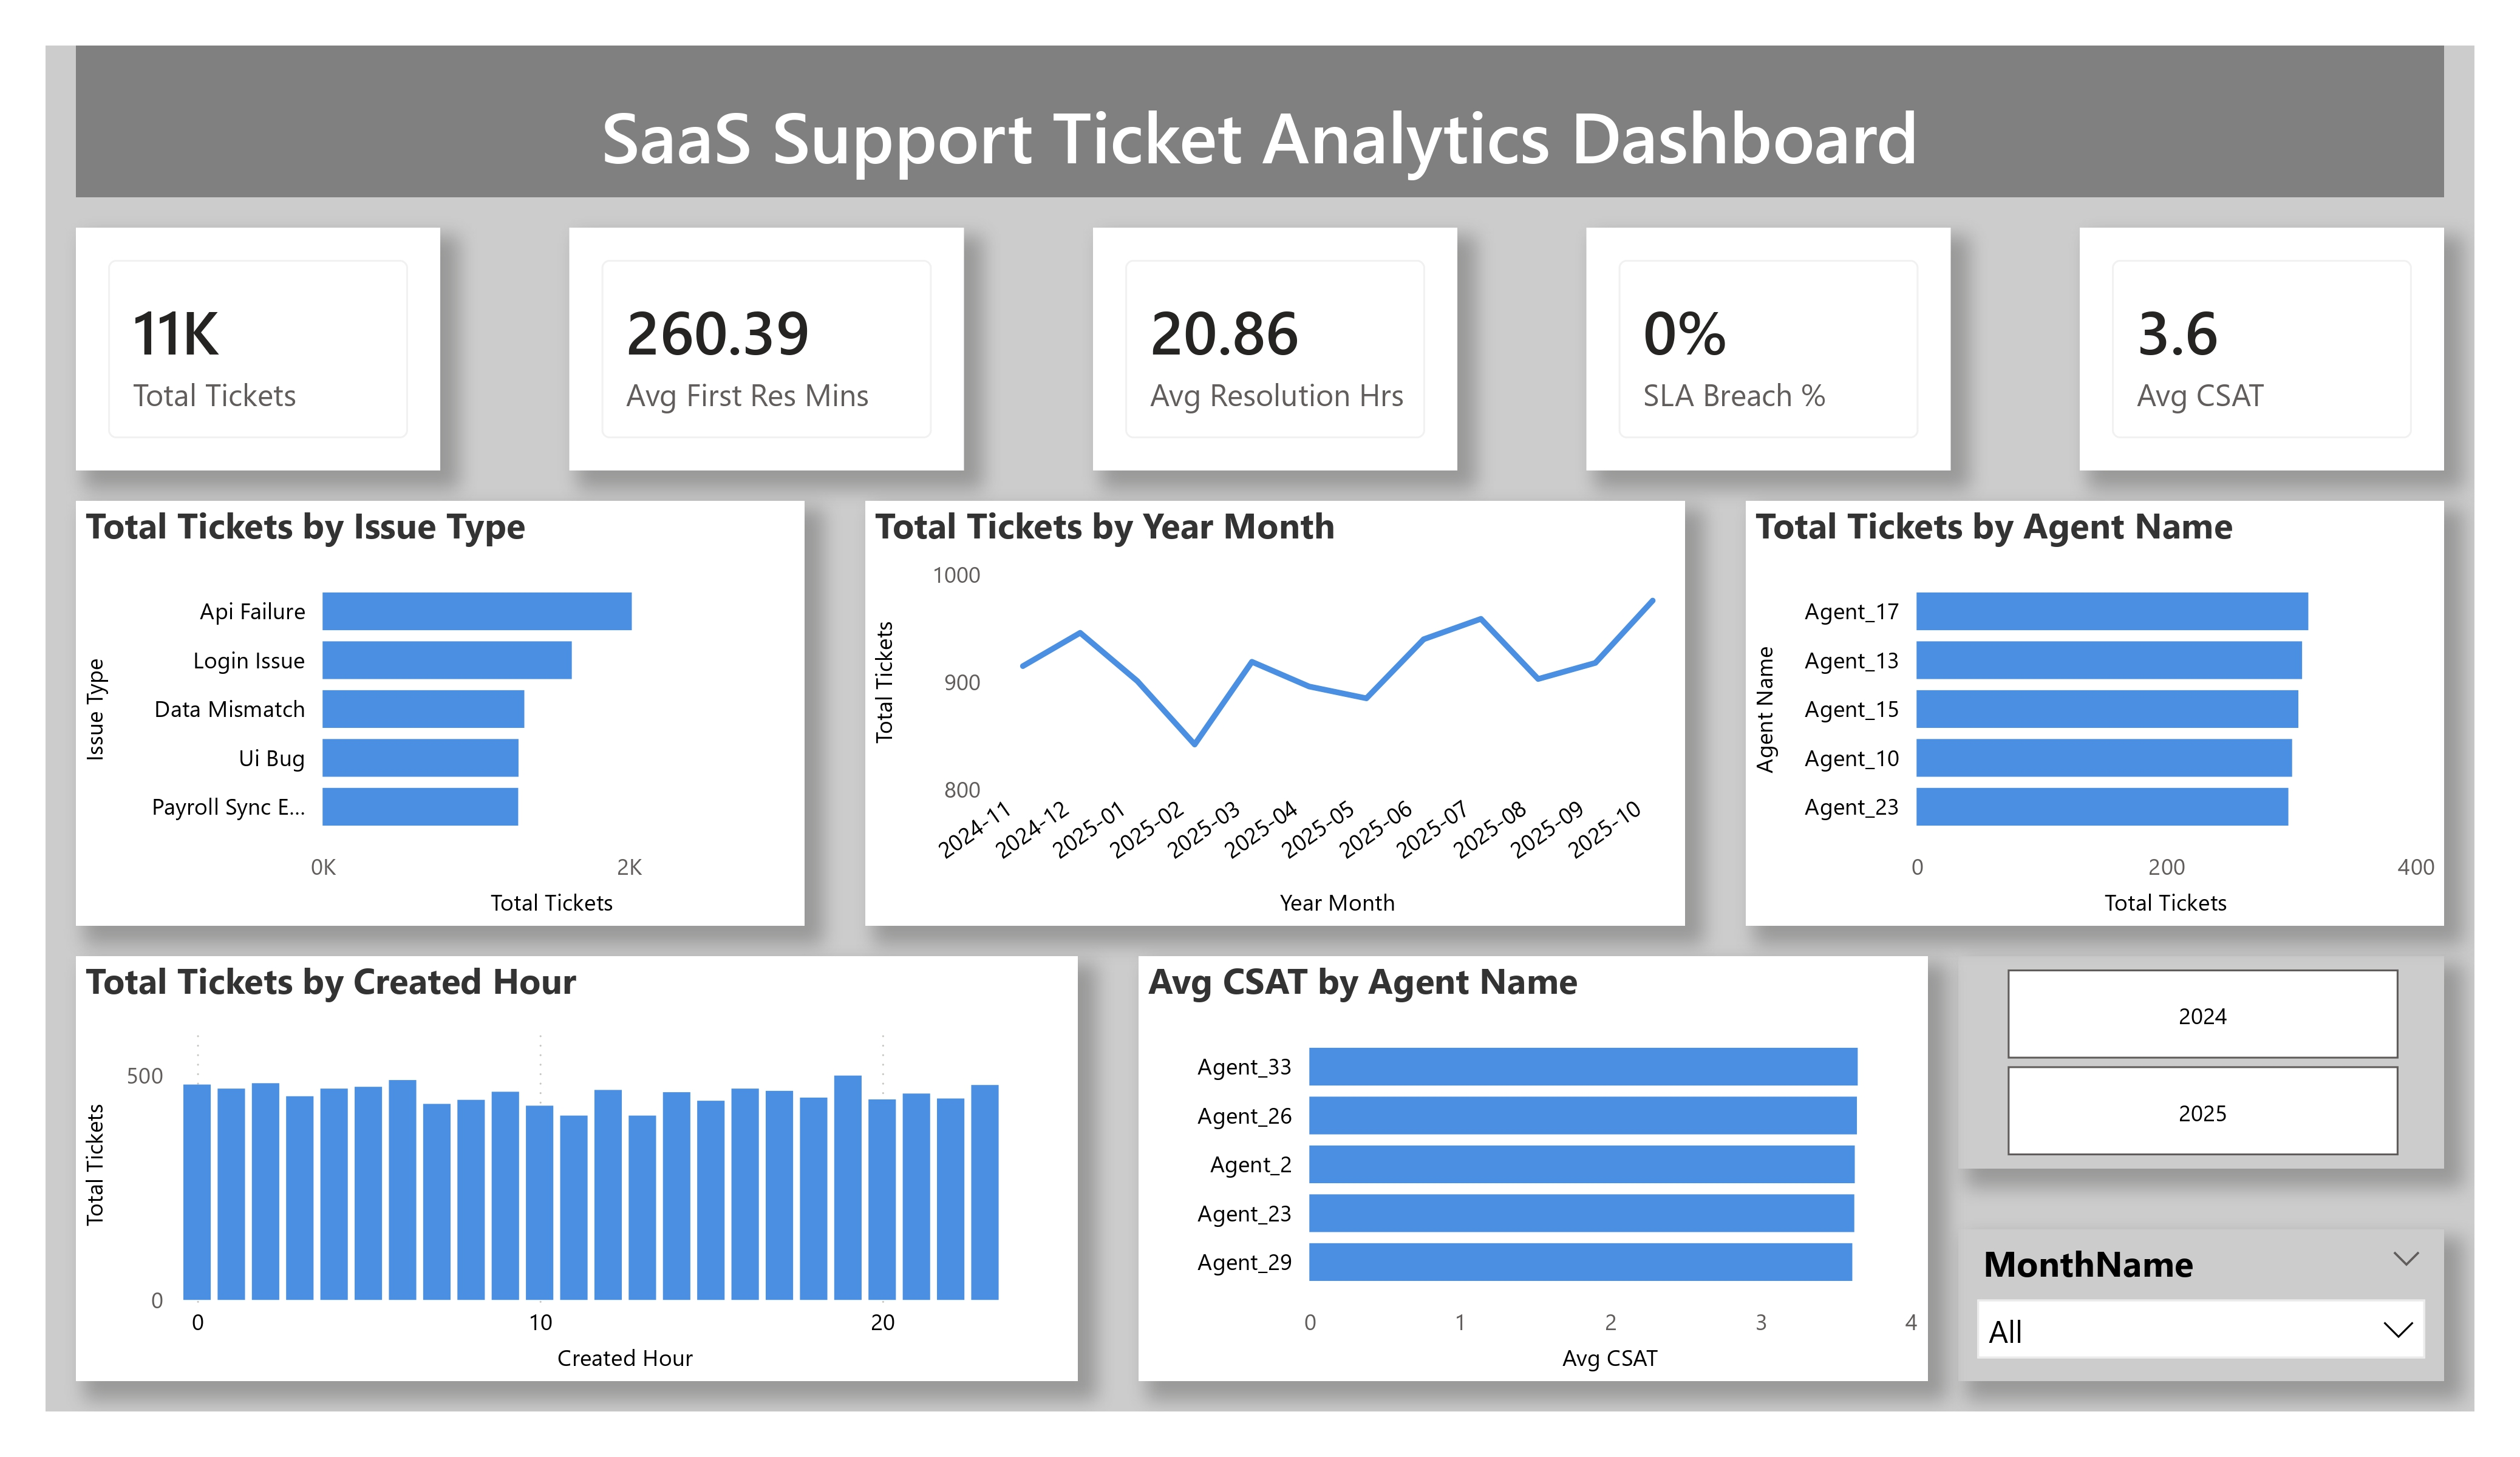

The dashboard page shown, as its layout file describes it:
{"tool":"powerbi","page":{"name":"Page 1","canvas":[1280,720],"ordinal":0},"visuals":[{"type":"cardVisual","title":"Avg First Response Time (mins)","fields":{"Data":["MeasureTable.Avg First Response Mins"]},"box":[276,96,208,128],"z":0},{"type":"cardVisual","fields":{"Data":["MeasureTable.Avg Resolution Hrs"]},"box":[552,96,192,128],"z":1000},{"type":"cardVisual","fields":{"Data":["MeasureTable.SLA Breach %"]},"box":[812,96,192,128],"z":2000},{"type":"cardVisual","fields":{"Data":["MeasureTable.Total Tickets"]},"box":[16,96,192,128],"z":3000},{"type":"cardVisual","fields":{"Data":["MeasureTable.Avg CSAT"]},"box":[1072,96,192,128],"z":4000},{"type":"lineChart","fields":{"Category":["Calendar.YearMonth"],"Y":["MeasureTable.Total Tickets"]},"box":[432,240,432,224],"z":5000},{"type":"clusteredBarChart","fields":{"Category":["tickets_master_clean.issue_type"],"Y":["MeasureTable.Total Tickets"]},"box":[16,240,384,224],"z":6000},{"type":"clusteredColumnChart","fields":{"Category":["tickets_master_clean.created_hour"],"Y":["MeasureTable.Total Tickets"]},"box":[16,480,528,224],"z":7000},{"type":"clusteredBarChart","fields":{"Category":["tickets_master_clean.agent_name"],"Y":["MeasureTable.Total Tickets"]},"box":[896,240,368,224],"z":8000},{"type":"clusteredBarChart","fields":{"Category":["tickets_master_clean.agent_name"],"Y":["MeasureTable.Avg CSAT"]},"box":[576,480,416,224],"z":9000},{"type":"slicer","fields":{"Values":["Calendar.Year"]},"box":[1008,480,256,112],"z":10000},{"type":"slicer","fields":{"Values":["Calendar.MonthName"]},"box":[1008,624,256,80],"z":11000},{"type":"textbox","box":[16,0,1248,80],"z":12000}]}

Visuals, with their boxes on the page's 1280x720 design canvas (x1, y1, x2, y2). These are canvas units, not pixel positions in the 2520x1457 screenshot, which may show the page scaled, cropped or inside an application window:
"Avg First Response Time (mins)" cardVisual: BBox(276, 96, 484, 224)
cardVisual - MeasureTable.Avg Resolution Hrs: BBox(552, 96, 744, 224)
cardVisual - MeasureTable.SLA Breach %: BBox(812, 96, 1004, 224)
cardVisual - MeasureTable.Total Tickets: BBox(16, 96, 208, 224)
cardVisual - MeasureTable.Avg CSAT: BBox(1072, 96, 1264, 224)
lineChart - Calendar.YearMonth x MeasureTable.Total Tickets: BBox(432, 240, 864, 464)
clusteredBarChart - tickets_master_clean.issue_type x MeasureTable.Total Tickets: BBox(16, 240, 400, 464)
clusteredColumnChart - tickets_master_clean.created_hour x MeasureTable.Total Tickets: BBox(16, 480, 544, 704)
clusteredBarChart - tickets_master_clean.agent_name x MeasureTable.Total Tickets: BBox(896, 240, 1264, 464)
clusteredBarChart - tickets_master_clean.agent_name x MeasureTable.Avg CSAT: BBox(576, 480, 992, 704)
slicer - Calendar.Year: BBox(1008, 480, 1264, 592)
slicer - Calendar.MonthName: BBox(1008, 624, 1264, 704)
textbox: BBox(16, 0, 1264, 80)
